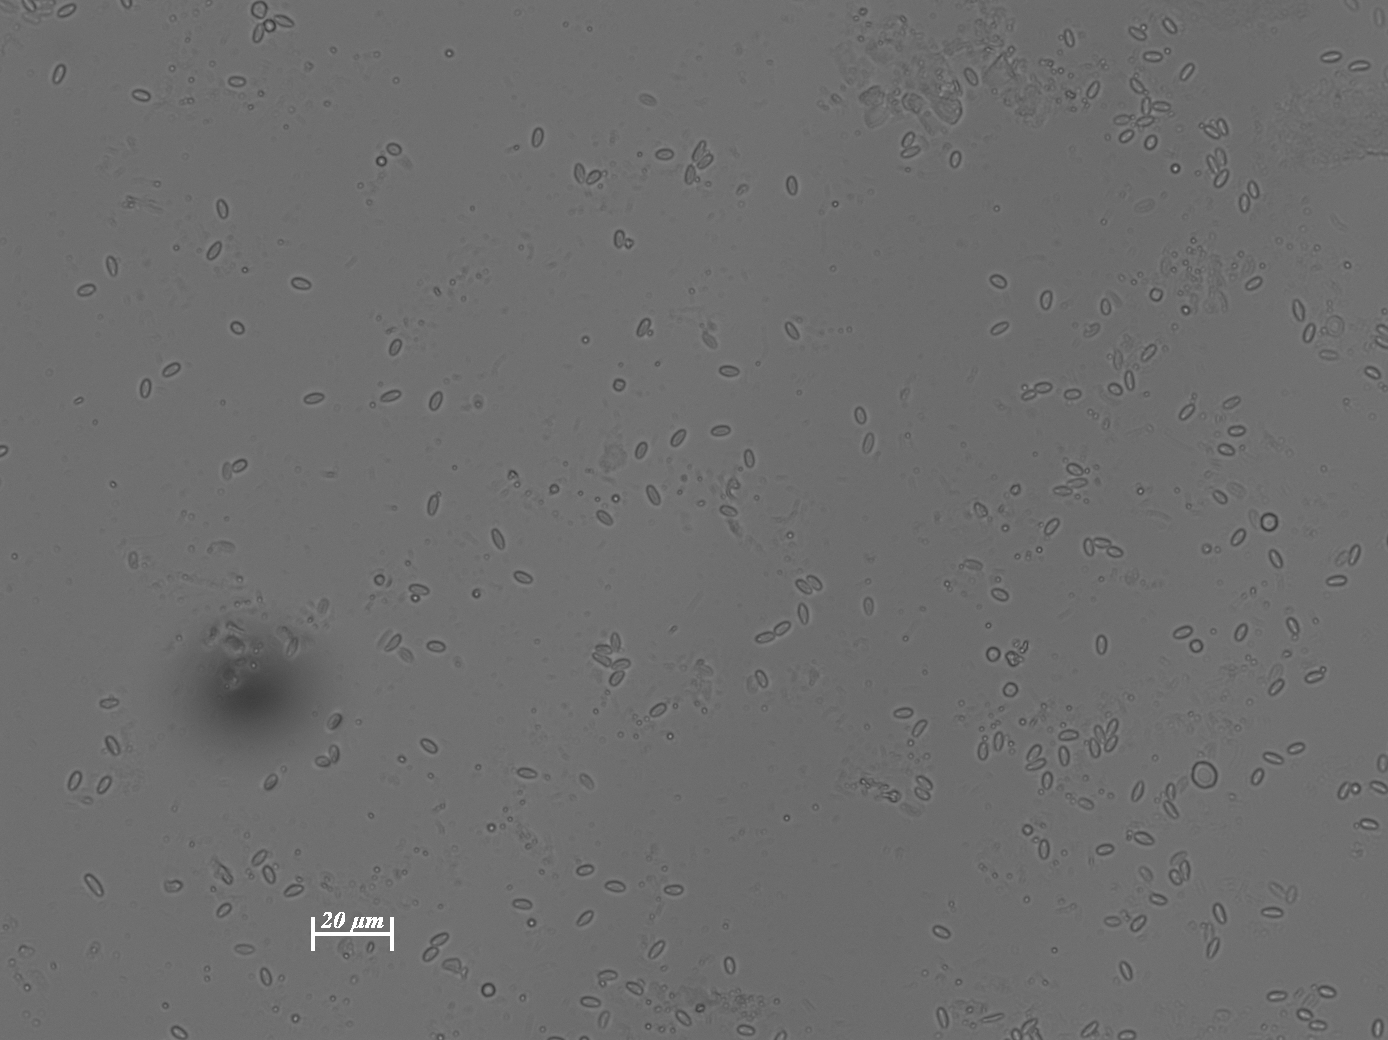spore: (323, 910, 345, 927), (1178, 62, 1196, 81), (1269, 549, 1284, 569), (1131, 782, 1146, 803), (1190, 767, 1206, 785), (1193, 760, 1208, 779), (491, 530, 506, 549), (1349, 544, 1363, 564), (1207, 937, 1220, 958), (669, 432, 686, 448), (251, 2, 268, 19), (1269, 679, 1285, 696), (1130, 914, 1147, 931), (384, 635, 401, 651), (785, 322, 800, 340), (1178, 403, 1196, 418), (609, 670, 625, 687), (1215, 168, 1231, 186), (207, 240, 223, 258), (1105, 720, 1120, 737), (429, 393, 443, 412), (646, 487, 661, 506), (1303, 323, 1317, 342), (785, 176, 798, 196), (936, 1007, 949, 1027), (1096, 722, 1112, 738), (61, 2, 78, 17), (422, 740, 438, 755), (1162, 19, 1177, 35), (1365, 366, 1381, 381), (676, 1012, 692, 1027), (651, 939, 666, 956), (913, 721, 927, 738), (79, 283, 96, 297), (1285, 617, 1300, 635), (1161, 801, 1178, 815), (1173, 626, 1190, 640), (689, 142, 703, 159), (91, 879, 105, 897), (1197, 768, 1211, 785), (721, 505, 739, 518), (722, 365, 740, 378), (756, 670, 769, 688), (1213, 905, 1226, 923), (1120, 962, 1134, 981), (1164, 782, 1177, 801), (1095, 636, 1107, 655), (576, 912, 591, 927), (230, 320, 246, 335), (743, 451, 757, 468), (96, 779, 110, 795), (990, 275, 1007, 289), (264, 775, 278, 791), (67, 775, 81, 791), (1264, 516, 1278, 532), (701, 334, 717, 348), (1243, 277, 1259, 292), (763, 630, 780, 645), (696, 157, 712, 172), (1310, 671, 1327, 685), (854, 407, 867, 425), (1088, 81, 1101, 98), (1234, 625, 1247, 642), (949, 151, 962, 168), (1066, 463, 1083, 476), (215, 201, 228, 218), (609, 881, 627, 894), (1238, 194, 1251, 212), (796, 602, 809, 619), (428, 496, 439, 517), (863, 436, 875, 454), (724, 956, 736, 974), (1131, 81, 1147, 95), (388, 340, 402, 355), (900, 132, 914, 147), (1025, 746, 1040, 761), (583, 168, 597, 184), (436, 932, 451, 946), (775, 621, 791, 635), (916, 775, 932, 789), (1212, 491, 1227, 505), (934, 925, 949, 939), (422, 948, 437, 962), (598, 512, 614, 527), (803, 578, 817, 593), (986, 647, 1000, 662), (483, 982, 497, 997), (1140, 347, 1154, 363), (809, 576, 823, 591), (251, 851, 266, 865), (105, 735, 119, 751), (533, 129, 544, 149), (993, 589, 1009, 602), (1295, 1008, 1312, 1021), (1044, 521, 1057, 537), (514, 571, 531, 584), (1319, 985, 1336, 998), (1251, 768, 1265, 784), (107, 740, 120, 756), (1332, 575, 1349, 588), (1338, 783, 1351, 800), (949, 108, 962, 125), (161, 365, 177, 378), (296, 277, 312, 291), (1020, 1017, 1036, 1030), (594, 654, 610, 667), (636, 442, 648, 460), (1058, 748, 1070, 766), (1348, 551, 1360, 568), (863, 599, 875, 616), (1139, 835, 1156, 847), (1149, 288, 1163, 303), (215, 905, 229, 919), (1087, 323, 1101, 338), (646, 945, 661, 959), (637, 317, 651, 331), (1003, 683, 1017, 697), (581, 909, 595, 923), (1248, 275, 1262, 289), (1374, 335, 1388, 350), (1081, 541, 1094, 556), (1104, 738, 1117, 754), (1100, 299, 1113, 315), (990, 323, 1006, 336), (135, 90, 151, 103), (1119, 129, 1135, 142), (1226, 395, 1242, 409), (371, 574, 387, 587), (171, 1026, 187, 1039), (596, 1014, 609, 1029), (1218, 444, 1233, 457), (733, 184, 748, 197), (260, 970, 273, 985), (1292, 307, 1305, 322), (329, 714, 342, 730), (1193, 776, 1208, 789), (1207, 158, 1220, 174), (1042, 772, 1054, 789), (1324, 51, 1340, 63), (655, 149, 672, 161), (1098, 844, 1114, 856), (573, 166, 585, 182), (1363, 818, 1379, 830), (693, 152, 710, 164), (720, 488, 736, 500), (1372, 780, 1388, 792), (410, 590, 427, 601), (107, 260, 118, 277), (1218, 118, 1229, 135), (387, 143, 401, 156), (1039, 296, 1052, 310), (205, 248, 220, 261), (1248, 185, 1261, 199), (1212, 176, 1226, 189), (1230, 532, 1243, 546), (649, 705, 662, 719), (1261, 752, 1276, 765), (900, 707, 914, 720), (605, 881, 619, 894), (51, 70, 64, 84), (1189, 639, 1202, 653), (281, 15, 295, 28), (233, 459, 247, 472), (1064, 33, 1077, 47), (1168, 872, 1183, 885), (1290, 742, 1304, 755), (602, 655, 615, 670), (83, 874, 97, 887), (169, 879, 183, 893), (284, 884, 298, 897), (400, 648, 413, 662), (1037, 843, 1049, 859), (334, 913, 346, 929), (966, 71, 978, 86), (915, 789, 930, 801), (523, 768, 538, 780), (263, 870, 275, 885), (797, 610, 809, 625), (1262, 907, 1278, 919), (1122, 1028, 1137, 1040), (613, 228, 625, 244), (166, 363, 181, 375), (517, 898, 532, 910), (290, 277, 306, 289), (1203, 127, 1219, 139), (1141, 117, 1156, 129), (1201, 776, 1217, 788), (127, 551, 139, 566), (714, 426, 731, 437), (412, 583, 428, 594), (1130, 31, 1147, 42), (798, 584, 815, 595), (1152, 102, 1168, 113), (1124, 370, 1135, 387), (994, 733, 1004, 751), (580, 864, 593, 877), (381, 575, 394, 588), (795, 580, 808, 593), (1086, 1019, 1099, 1032), (1269, 991, 1286, 1001), (1349, 783, 1362, 796), (127, 557, 140, 570), (518, 768, 532, 780), (229, 622, 244, 634), (1031, 759, 1045, 771), (1270, 907, 1284, 919), (1144, 135, 1156, 150), (302, 393, 317, 405), (1134, 832, 1148, 844), (1305, 673, 1319, 685), (376, 917, 388, 931), (442, 959, 456, 971), (164, 881, 178, 893), (901, 99, 915, 111), (1144, 344, 1156, 358), (106, 698, 120, 710), (140, 383, 151, 399), (429, 641, 444, 652), (628, 984, 643, 995), (289, 884, 305, 895), (1057, 730, 1072, 741), (1095, 537, 1111, 548), (1023, 391, 1039, 402), (1181, 861, 1191, 876), (1355, 61, 1371, 72), (906, 146, 922, 157), (588, 177, 603, 188), (1207, 131, 1223, 141), (584, 997, 601, 1007), (387, 936, 396, 953), (264, 21, 276, 34), (976, 748, 989, 760), (252, 31, 264, 44), (613, 380, 626, 392), (100, 699, 114, 711), (232, 76, 245, 88), (1065, 389, 1078, 401), (388, 390, 401, 402), (283, 645, 296, 657), (1325, 576, 1338, 588), (702, 154, 714, 167), (329, 744, 341, 757), (976, 506, 989, 518), (1375, 323, 1388, 335), (24, 0, 37, 12), (950, 104, 963, 116), (1115, 272, 1128, 284), (977, 735, 989, 748), (1089, 743, 1100, 757), (1270, 755, 1284, 766), (1349, 61, 1363, 72), (988, 1012, 1003, 1023), (1150, 894, 1164, 905), (665, 885, 679, 896), (1107, 383, 1122, 394), (316, 756, 330, 767), (1105, 917, 1119, 927), (1127, 26, 1141, 37), (1080, 799, 1094, 809), (234, 944, 248, 955), (610, 631, 621, 646), (969, 559, 983, 570), (758, 634, 773, 643), (1107, 548, 1123, 558), (684, 173, 696, 185), (1101, 418, 1113, 430), (736, 1025, 749, 1036), (637, 324, 648, 338), (1230, 426, 1243, 437), (1009, 483, 1020, 496), (1080, 1027, 1093, 1038), (331, 749, 342, 763), (222, 468, 233, 481), (1090, 543, 1101, 556), (1024, 716, 1035, 729), (700, 149, 713, 159), (686, 164, 697, 177), (642, 96, 655, 107), (1019, 639, 1029, 653), (351, 917, 360, 931), (1147, 52, 1161, 62), (376, 926, 390, 936), (1037, 382, 1052, 392), (1008, 658, 1022, 667), (387, 917, 395, 932), (951, 81, 962, 93), (376, 156, 387, 168), (1033, 754, 1045, 765), (1117, 1028, 1128, 1040), (710, 426, 722, 437), (549, 483, 560, 495), (804, 575, 816, 586), (719, 366, 731, 377), (1213, 166, 1225, 177), (619, 658, 630, 670), (830, 93, 842, 104), (898, 13, 909, 25), (614, 238, 626, 249), (82, 794, 93, 806), (1105, 788, 1116, 800), (1020, 826, 1033, 836), (408, 583, 422, 593), (885, 792, 898, 802), (602, 645, 615, 654), (626, 982, 639, 992), (889, 95, 902, 105), (1147, 103, 1156, 116), (1064, 90, 1077, 99), (1073, 477, 1087, 487), (371, 914, 384, 924), (1065, 478, 1079, 487), (1309, 1021, 1324, 1030), (388, 922, 396, 936), (222, 874, 233, 885), (579, 996, 590, 1007), (892, 708, 903, 719), (784, 530, 795, 541), (73, 394, 84, 405), (1237, 589, 1248, 600), (1084, 736, 1095, 747), (1033, 1029, 1044, 1040), (1125, 379, 1135, 391), (1170, 164, 1182, 174), (1201, 543, 1211, 555), (982, 1015, 994, 1025), (592, 652, 604, 662), (1060, 487, 1072, 497), (1010, 1028, 1020, 1040), (517, 993, 529, 1003), (1289, 631, 1301, 641), (962, 560, 972, 572), (0, 446, 10, 458), (241, 945, 253, 955), (702, 665, 714, 675), (1115, 115, 1127, 125), (729, 478, 742, 488), (1325, 300, 1334, 312), (1065, 731, 1078, 740), (1054, 487, 1067, 496), (605, 970, 618, 979), (857, 7, 868, 16), (580, 335, 591, 345), (624, 239, 634, 249), (899, 149, 910, 158), (508, 470, 519, 480), (858, 778, 869, 788), (1248, 586, 1258, 596), (511, 480, 522, 489), (290, 1013, 300, 1024), (1136, 119, 1147, 129), (327, 993, 337, 1003), (472, 589, 482, 600), (368, 400, 378, 411), (126, 200, 137, 210), (410, 593, 420, 603), (776, 1030, 787, 1040), (1044, 59, 1055, 69), (933, 69, 942, 80), (1329, 326, 1339, 336), (879, 782, 890, 792), (48, 960, 58, 971), (159, 1002, 170, 1012), (1340, 397, 1351, 406), (13, 971, 24, 981), (1235, 249, 1245, 260), (460, 967, 470, 978), (696, 498, 707, 508), (1007, 742, 1017, 753), (1352, 820, 1363, 830), (482, 552, 491, 563), (1055, 33, 1064, 45), (367, 942, 376, 954), (1280, 650, 1292, 659), (1125, 830, 1134, 842), (727, 487, 739, 496), (602, 688, 614, 697), (1028, 836, 1040, 844), (351, 929, 364, 936), (1011, 552, 1021, 562), (696, 1004, 705, 1014), (1036, 787, 1046, 796), (239, 265, 249, 275), (993, 575, 1003, 584), (644, 329, 654, 339), (1210, 627, 1220, 637), (984, 621, 994, 630), (108, 480, 118, 489), (22, 982, 32, 992), (661, 863, 671, 873), (993, 203, 1003, 213), (517, 799, 526, 808), (256, 88, 265, 98), (499, 804, 509, 814), (995, 504, 1005, 513), (1151, 794, 1161, 804), (940, 962, 950, 972), (152, 179, 162, 189), (367, 811, 377, 820), (560, 20, 570, 29), (1168, 264, 1178, 274), (958, 698, 968, 708), (585, 24, 595, 34), (431, 287, 442, 296), (612, 494, 620, 505), (1179, 306, 1190, 315), (664, 732, 675, 741), (1019, 716, 1028, 726), (187, 839, 195, 850), (1140, 23, 1149, 34), (120, 0, 131, 9), (328, 46, 339, 55), (187, 74, 195, 85), (630, 732, 641, 741), (890, 88, 901, 97), (644, 713, 655, 722), (5, 957, 16, 966), (594, 181, 605, 190), (203, 0, 214, 9), (949, 899, 958, 910), (294, 876, 305, 885), (933, 1031, 944, 1040), (315, 930, 329, 936), (365, 917, 372, 929), (355, 915, 363, 927), (1137, 115, 1149, 122), (1319, 327, 1328, 336), (953, 978, 963, 986), (1082, 465, 1091, 475), (1162, 47, 1172, 56), (1072, 493, 1081, 503), (1021, 896, 1031, 905), (1040, 978, 1049, 986), (1001, 523, 1010, 533), (446, 48, 454, 58), (855, 35, 865, 44), (1168, 249, 1178, 258), (906, 740, 916, 748), (203, 965, 212, 974), (668, 625, 678, 634), (990, 721, 1000, 730), (232, 600, 241, 608), (968, 1021, 977, 1030), (276, 973, 286, 982), (657, 964, 667, 972), (353, 718, 363, 726), (1149, 754, 1159, 763), (247, 102, 256, 111), (1098, 575, 1106, 584), (1142, 96, 1152, 105), (473, 764, 483, 772), (1020, 383, 1030, 392), (183, 97, 193, 106), (990, 872, 1000, 881), (699, 706, 709, 714), (560, 460, 570, 469), (1237, 444, 1247, 452), (321, 921, 332, 929), (984, 46, 995, 54), (1080, 497, 1091, 505), (372, 930, 387, 935), (1213, 545, 1222, 554), (942, 581, 951, 590), (1056, 67, 1065, 75), (526, 919, 535, 927), (372, 865, 381, 874), (392, 76, 401, 85), (507, 815, 515, 824), (11, 552, 20, 560), (168, 64, 177, 73), (448, 279, 456, 287), (1088, 409, 1096, 417), (203, 974, 212, 983), (1060, 849, 1069, 858), (19, 945, 27, 954), (1064, 704, 1072, 712), (293, 848, 301, 856), (958, 713, 966, 722), (1313, 244, 1321, 252), (506, 882, 514, 890), (306, 62, 315, 71), (911, 106, 920, 115), (1136, 488, 1146, 496), (1319, 665, 1327, 675), (672, 701, 679, 711), (1342, 262, 1352, 270), (248, 662, 258, 670), (1307, 983, 1317, 991), (1098, 218, 1107, 226), (900, 635, 910, 642), (1018, 650, 1028, 658), (674, 488, 684, 496), (1025, 552, 1033, 562), (1168, 323, 1178, 331), (179, 574, 189, 581), (1063, 792, 1073, 799), (487, 825, 496, 832), (996, 706, 1005, 713), (171, 245, 180, 252), (1230, 262, 1238, 270), (1007, 46, 1016, 54), (616, 731, 625, 738), (524, 842, 532, 851), (349, 925, 358, 933), (958, 562, 965, 570), (1182, 260, 1190, 268), (209, 60, 217, 68), (272, 1005, 280, 1014), (1244, 653, 1253, 661), (1379, 382, 1388, 390), (546, 1036, 561, 1040), (307, 616, 315, 625), (1250, 658, 1259, 665), (236, 576, 245, 583), (1260, 1023, 1268, 1031), (1067, 72, 1076, 80), (751, 495, 760, 503), (244, 830, 251, 839), (905, 432, 913, 440), (578, 1035, 590, 1040), (1081, 98, 1093, 104), (375, 919, 381, 929), (396, 757, 406, 764), (323, 912, 333, 919), (536, 870, 546, 876), (656, 1027, 666, 1033), (1036, 547, 1044, 555), (598, 981, 606, 989), (645, 998, 653, 1006), (357, 182, 365, 190), (783, 814, 791, 822), (966, 1007, 974, 1015), (594, 496, 602, 504), (637, 151, 644, 158), (428, 772, 436, 780), (1040, 704, 1047, 711), (1258, 262, 1266, 270), (1126, 115, 1134, 122), (723, 922, 731, 930), (366, 199, 373, 206), (705, 180, 713, 188), (1174, 487, 1182, 495), (185, 36, 192, 44), (1313, 617, 1320, 625), (281, 766, 288, 773), (401, 870, 408, 877), (831, 201, 840, 208), (1051, 948, 1059, 955), (266, 22, 273, 31), (538, 1027, 547, 1033), (904, 167, 913, 174), (1063, 732, 1071, 738), (332, 921, 337, 931), (692, 176, 700, 182), (1059, 722, 1067, 729), (1008, 741, 1016, 747), (669, 1027, 677, 1033), (1189, 237, 1197, 244), (1196, 122, 1203, 129), (689, 287, 696, 295), (773, 998, 781, 1005), (1053, 860, 1060, 866), (1191, 393, 1198, 401), (637, 719, 643, 725), (1131, 280, 1138, 286), (645, 1024, 652, 1030), (211, 886, 217, 893), (437, 1035, 444, 1040), (429, 952, 437, 957), (83, 292, 90, 297), (995, 576, 1000, 582), (952, 85, 957, 90), (953, 119, 958, 123)
